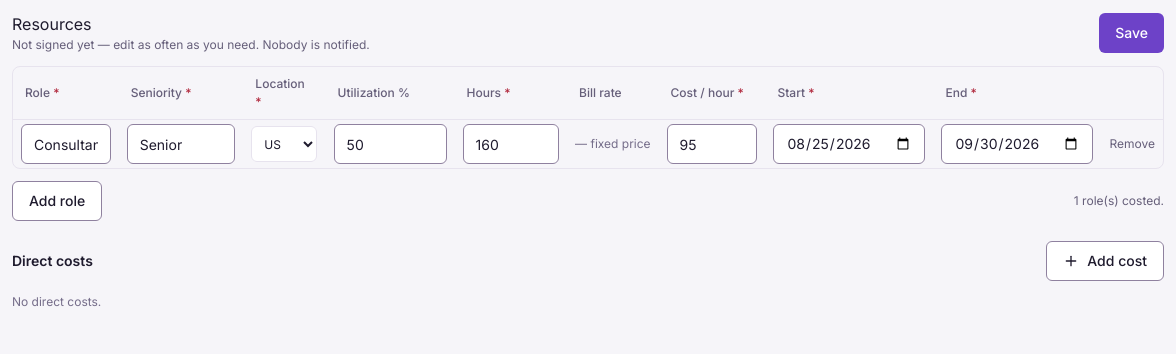
Test: ResourcesEditor › surfaces a rejected save instead of failing silently
Step 1. Click the button with test id "save-resources" → (1132, 33), box [1099, 13, 1164, 53]
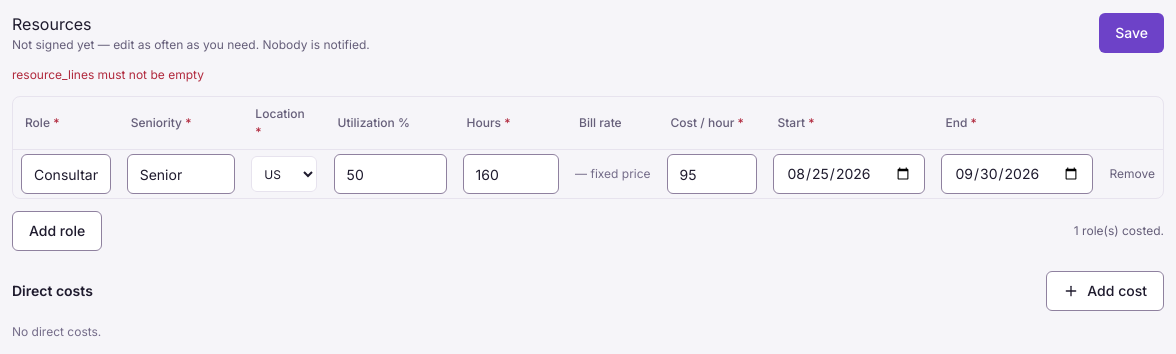
Expected: the text with test id "resources-error" shows "must not be empty", [12, 67, 204, 82]
